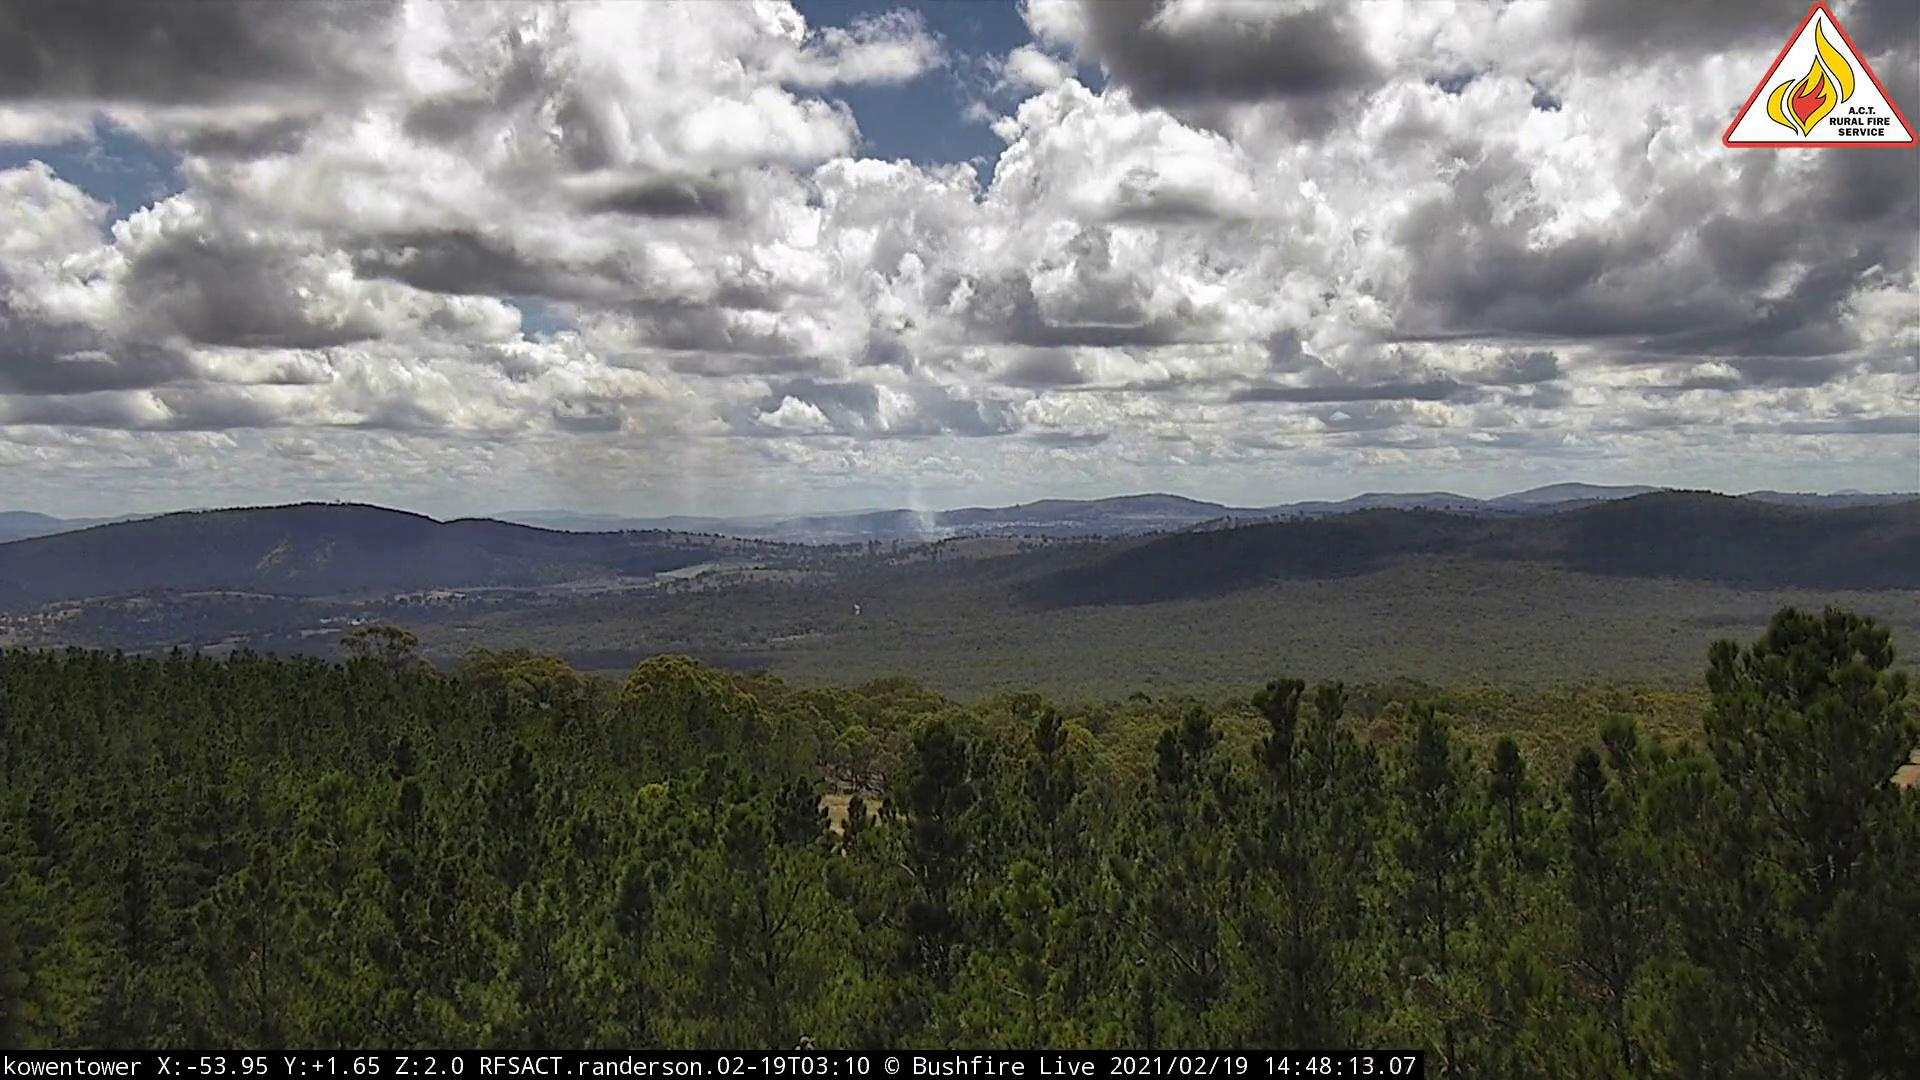Smoke: (508, 388, 967, 554)
